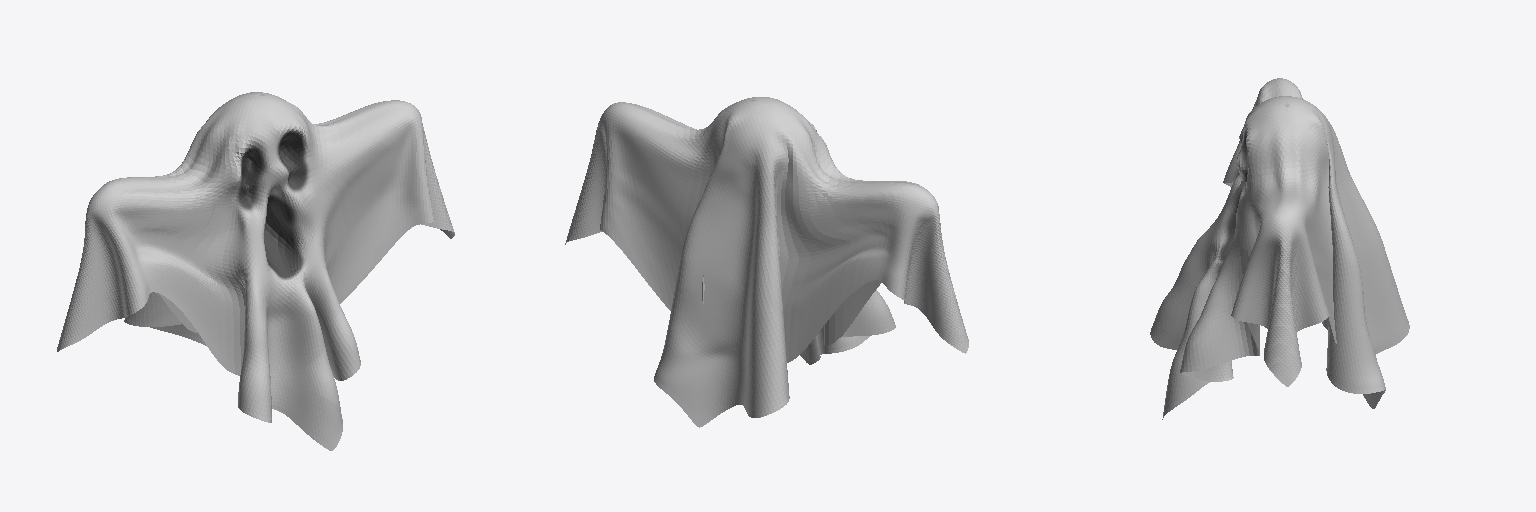
The picture shows the model from 3 angles: view 1: azimuth 30°, elevation 25°; view 2: azimuth 150°, elevation 25°; view 3: azimuth 270°, elevation 25°; orthographic projection.
Visible parts, largest first — view 1: Ghost_2_Plane.004; view 2: Ghost_2_Plane.004; view 3: Ghost_2_Plane.004.
Boxes of the visible parts, <box> form: Ghost_2_Plane.004: <box>57,92,454,450</box>; Ghost_2_Plane.004: <box>565,97,968,427</box>; Ghost_2_Plane.004: <box>1150,78,1409,419</box>.
Size of the model in its own units: 4.76 by 3.58 by 2.69.
1 materials, 1 textured.